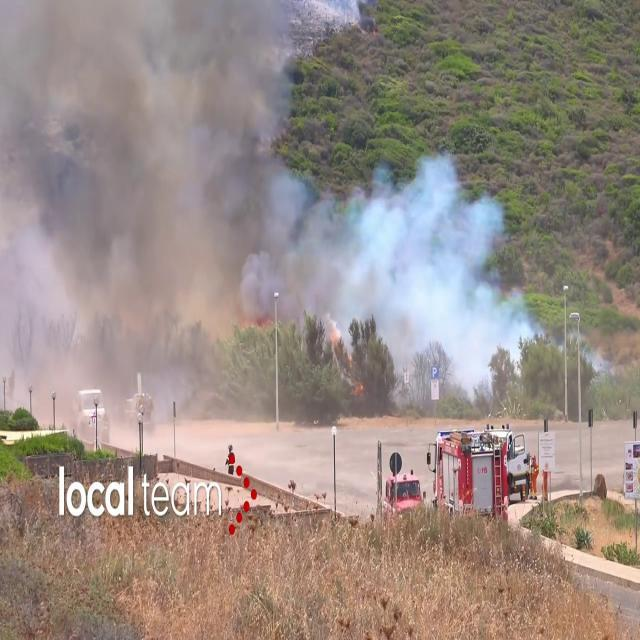Smoke: (1, 0, 527, 421)
